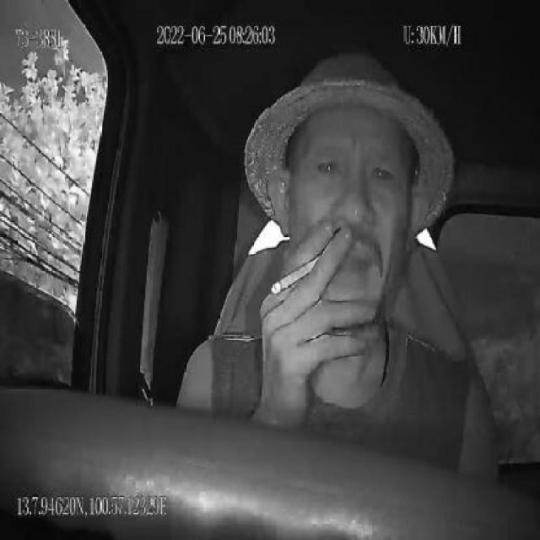smoking: (270, 249, 322, 296)
